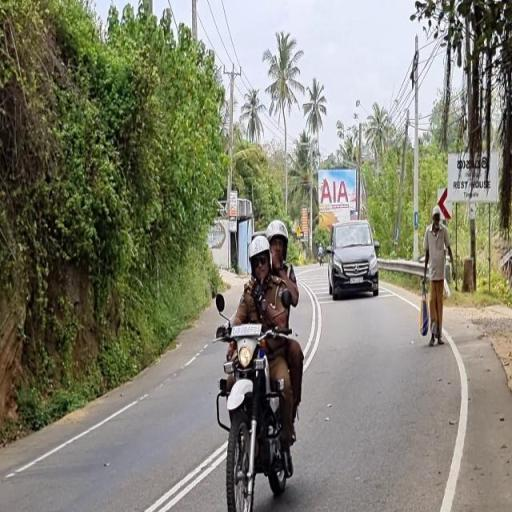double_white_line: (146, 441, 226, 512)
